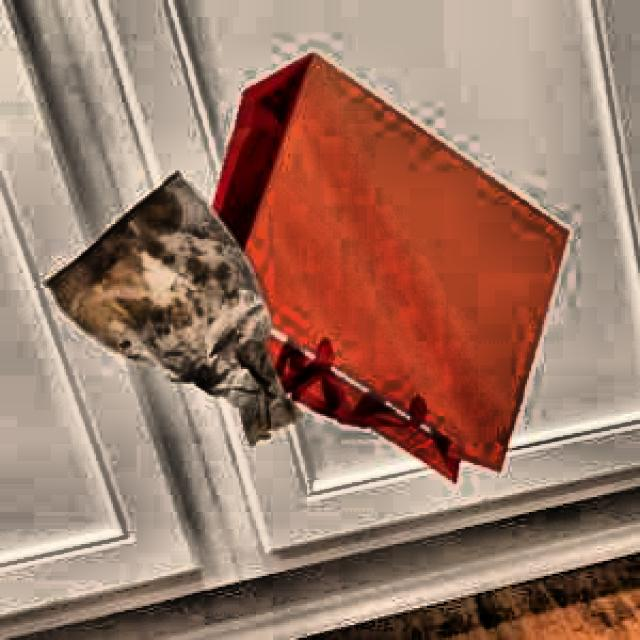Paper-bag: (168, 45, 576, 498), (39, 170, 309, 459)
